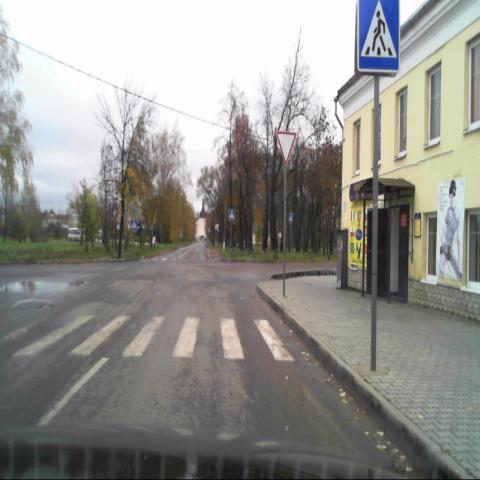2_4: (276, 131, 296, 166)
5_19_1: (355, 0, 399, 74)
